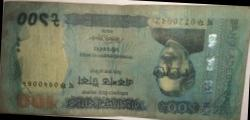100 taka: (3, 1, 239, 119)
